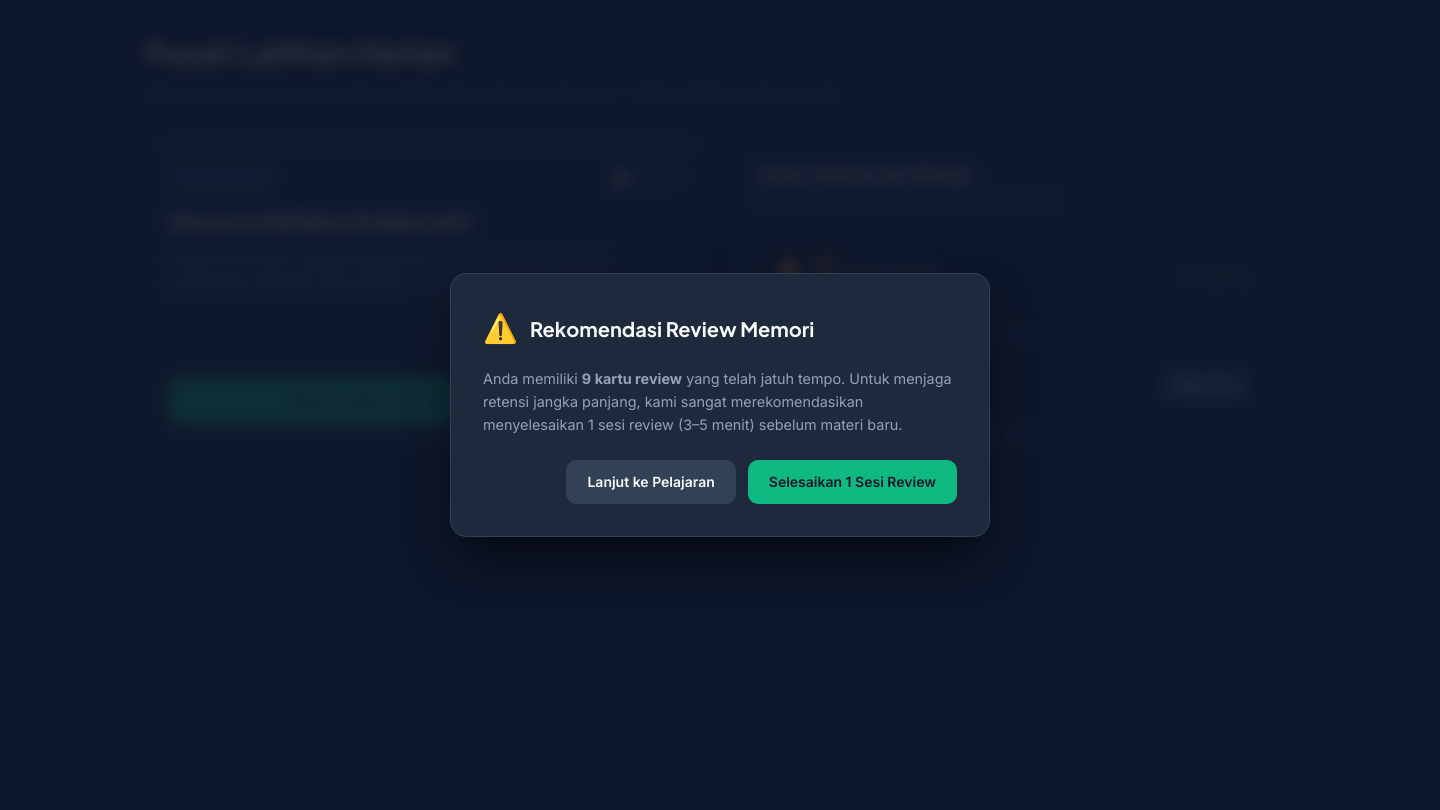
it: Dashboard Component & 3-Tier Debt Gate › renders Tier 2 modal gate recommending review first
Expected: the heading "Rekomendasi Review Memori" is shown, left=530, top=316, right=814, bottom=341
Can dismiss modal
Click the button "Lanjut ke Pelajaran".
click(651, 482)  # box left=566, top=460, right=736, bottom=504
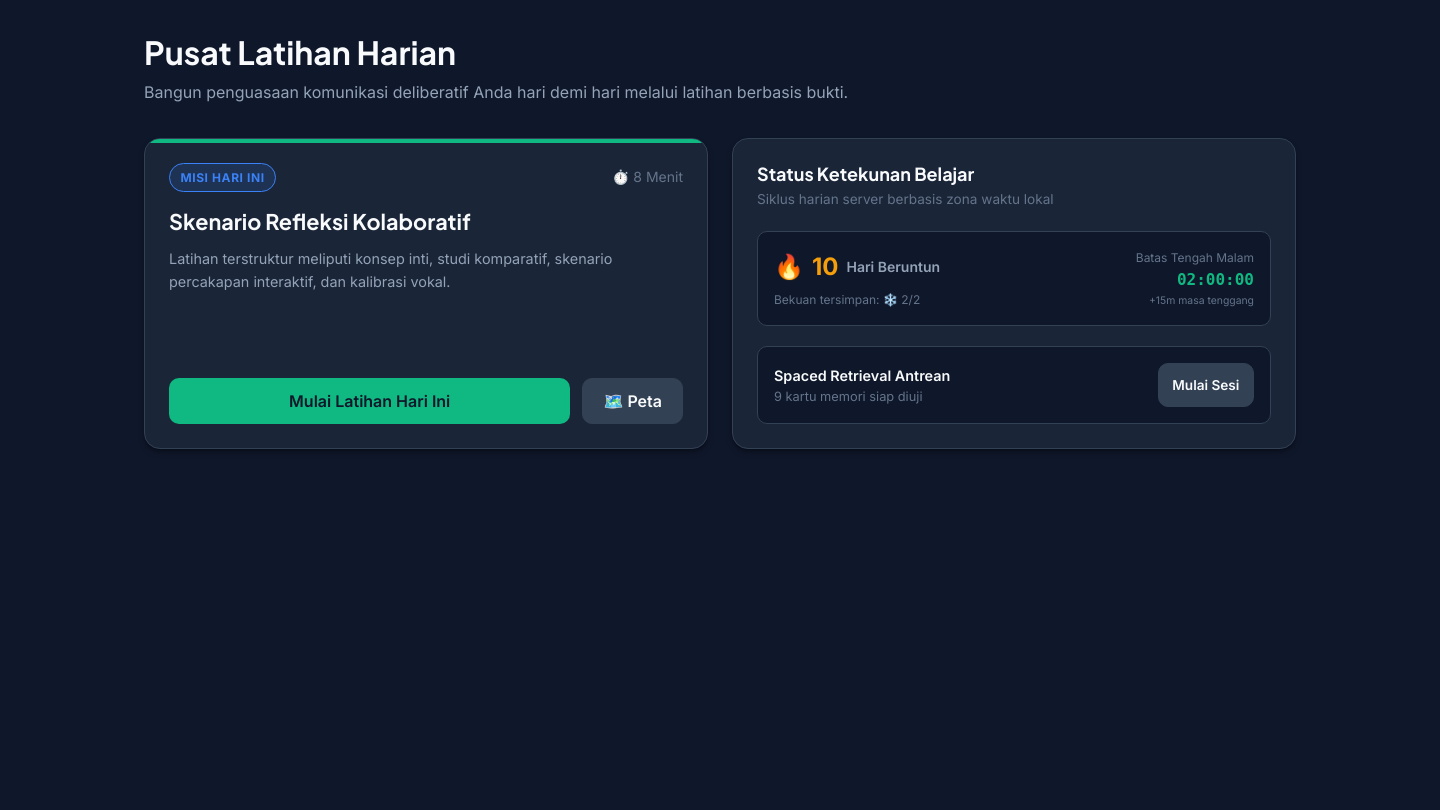
Expected: the dialog is gone
